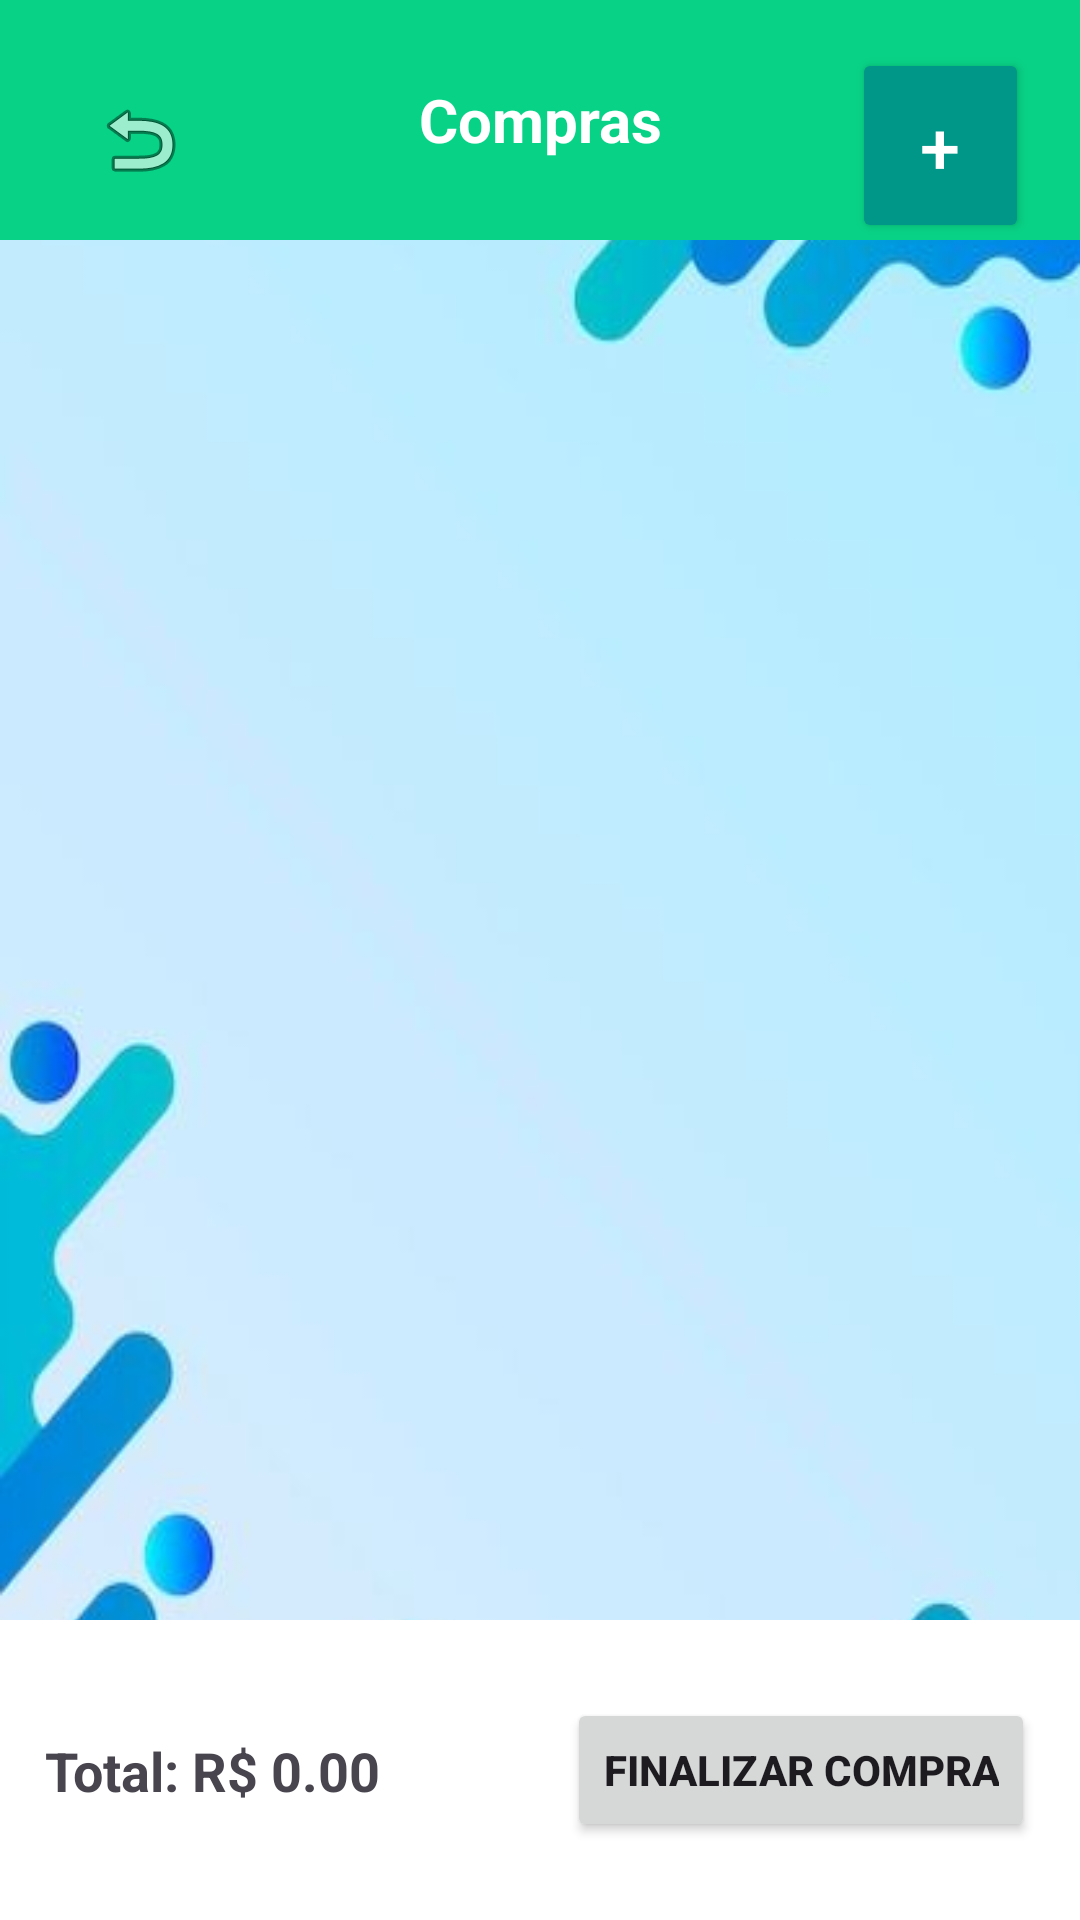

Where to tap for icons on this 1080x1920 app screen, as (x,y):
revert: (141,140)
